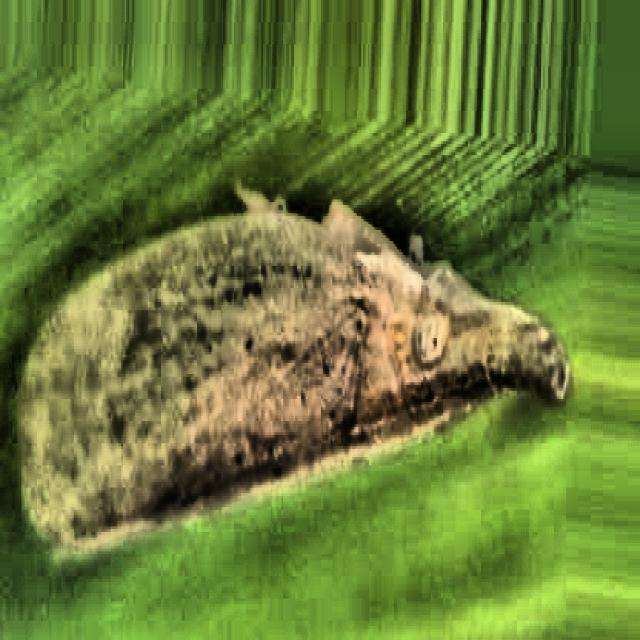Pyrilla-perpusilla: (3, 147, 574, 640)
